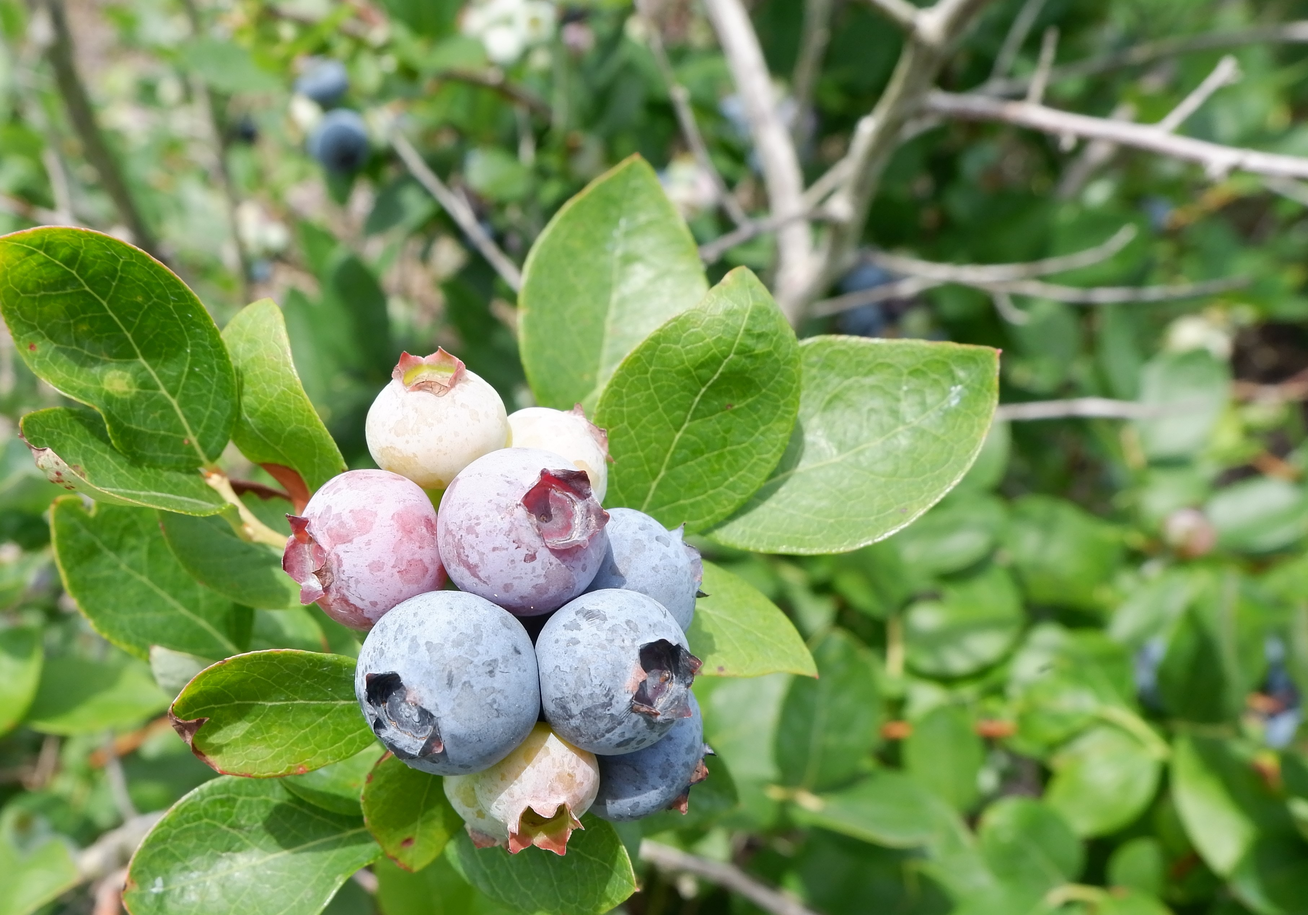Immature: (286, 471, 439, 629), (367, 352, 506, 496), (475, 724, 597, 846), (509, 405, 606, 487), (442, 769, 510, 856)
Mature: (356, 593, 543, 773), (440, 450, 604, 614), (540, 594, 692, 751), (594, 509, 700, 624), (596, 710, 705, 820)
